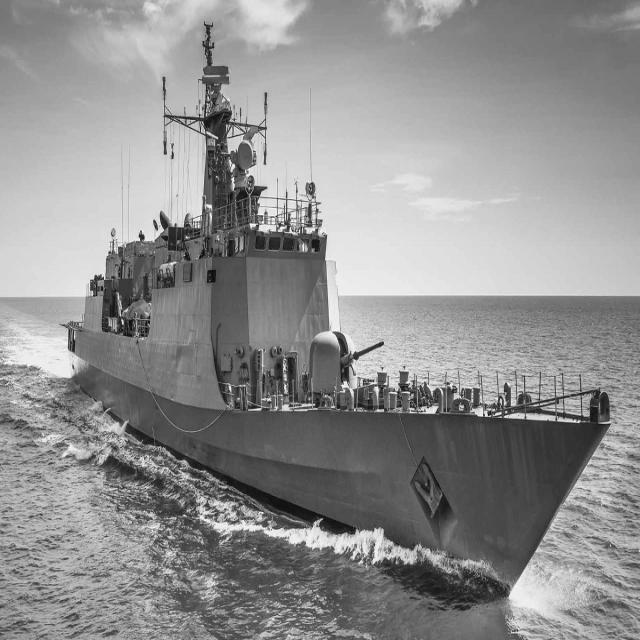Naval: (58, 12, 620, 609)
